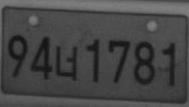1: (83, 38, 106, 83), (159, 42, 182, 86)
4: (29, 35, 53, 80)
7: (107, 39, 130, 83)
8: (132, 41, 156, 85)
9: (6, 33, 28, 77)
너: (55, 44, 78, 81)
